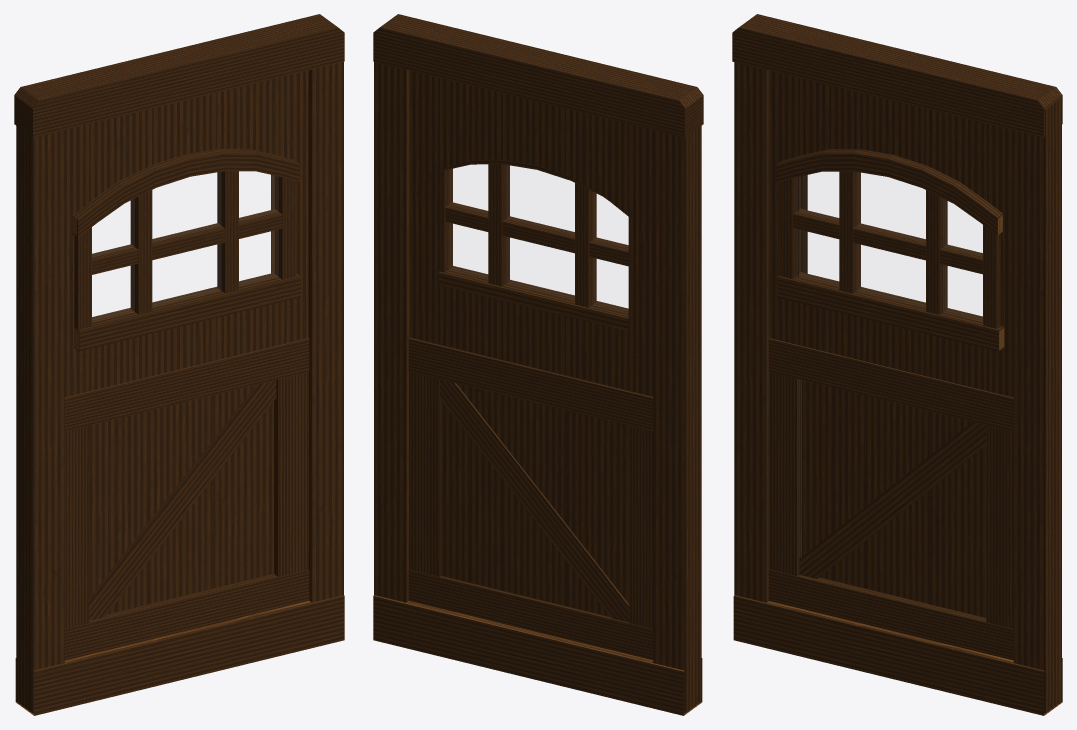
3 renders of one model, left to right at view 1: azimuth 30°, elevation 25°; view 2: azimuth 150°, elevation 25°; view 3: azimuth 330°, elevation 25°, orthographic.
Parts seen in each view (by area): view 1: Door_1_Flat; view 2: Door_1_Flat; view 3: Door_1_Flat.
Part boxes in pixels (x1=…): Door_1_Flat: x1=14, y1=14, x2=344, y2=715; Door_1_Flat: x1=373, y1=14, x2=703, y2=715; Door_1_Flat: x1=732, y1=14, x2=1062, y2=715.
Bounding box in the file's own units: 1.12 × 2.1 × 0.1207.
Materials: 2 (1 with a texture image).
